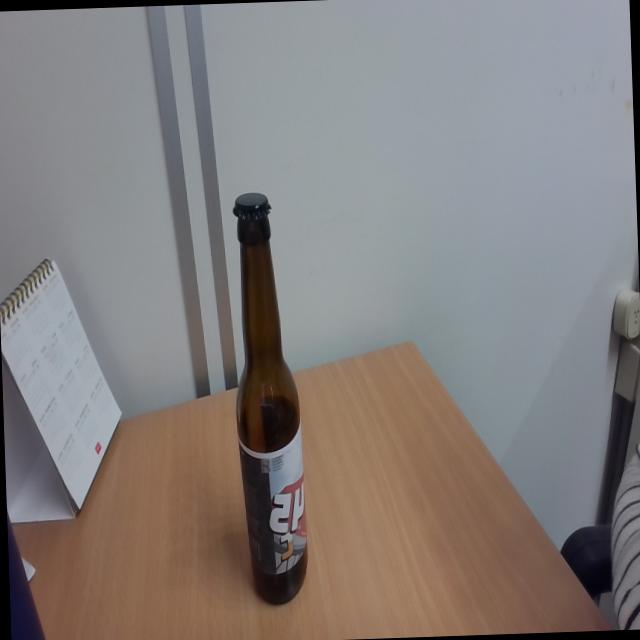Bottle: (229, 188, 308, 606)
Cap: (230, 190, 276, 222)
Label: (240, 437, 306, 578)
